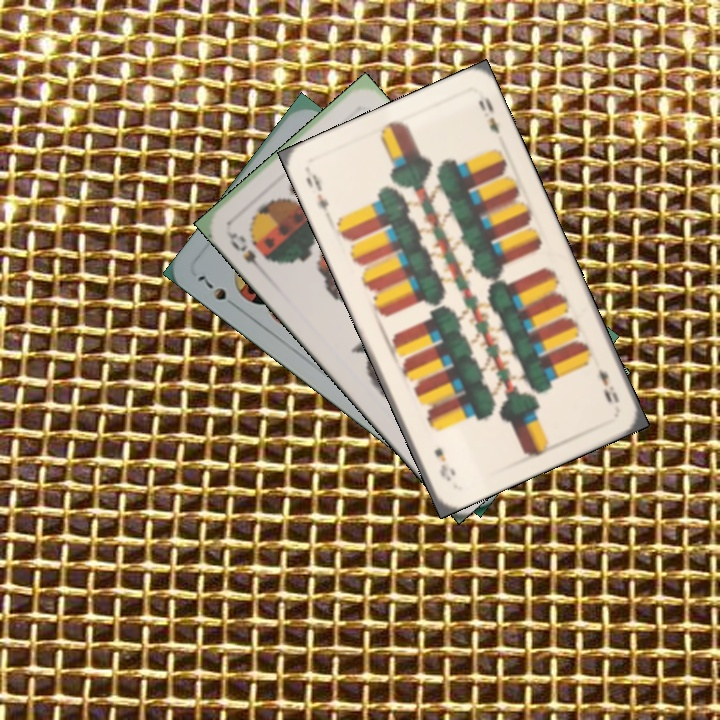E9: (302, 169, 331, 213), (594, 365, 622, 406)
S7: (193, 271, 242, 312)
SO: (223, 227, 267, 275)
